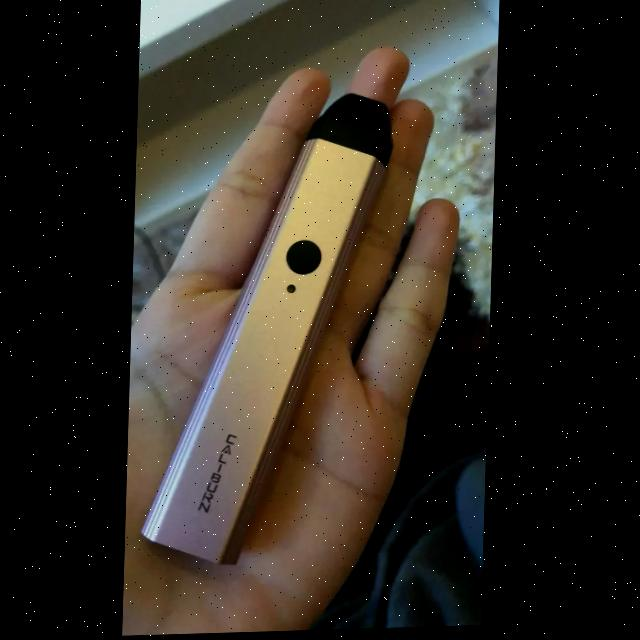vape: (140, 95, 392, 570)
